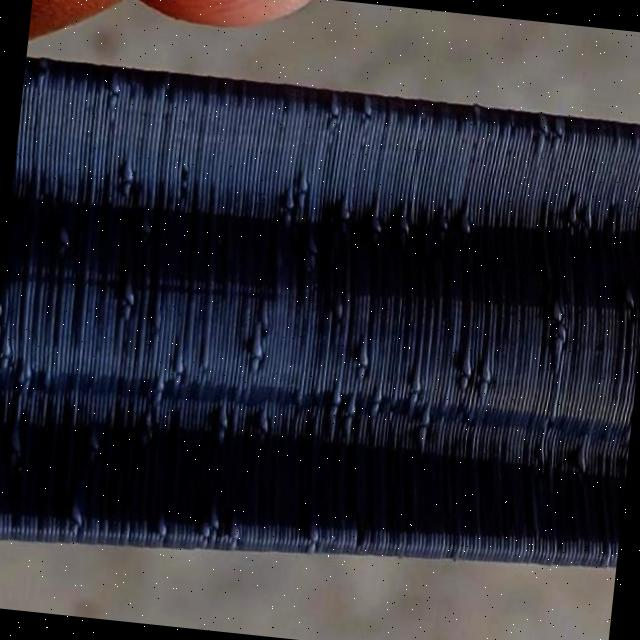blobs: (194, 497, 228, 538), (5, 355, 37, 398), (210, 406, 238, 444), (150, 508, 180, 539), (112, 155, 140, 188), (114, 286, 140, 319), (359, 208, 388, 237), (350, 339, 376, 370), (472, 372, 500, 400), (408, 426, 438, 451), (255, 408, 280, 438), (403, 372, 432, 397), (244, 334, 266, 366), (332, 194, 358, 221), (50, 223, 76, 250), (104, 78, 130, 105), (136, 422, 163, 448), (570, 442, 590, 477), (168, 353, 192, 382), (85, 424, 108, 454), (580, 200, 602, 230), (562, 199, 584, 229), (62, 498, 84, 528), (472, 362, 497, 388), (392, 207, 416, 234), (293, 162, 315, 191), (323, 102, 344, 132), (412, 402, 438, 426), (275, 190, 298, 216), (617, 287, 640, 313), (542, 298, 564, 325), (299, 522, 322, 547), (458, 210, 477, 240), (551, 331, 572, 358), (141, 212, 158, 244), (150, 370, 169, 398), (435, 208, 452, 238), (456, 350, 474, 378), (366, 391, 386, 416), (452, 372, 472, 396), (325, 388, 341, 412), (345, 394, 360, 419)
